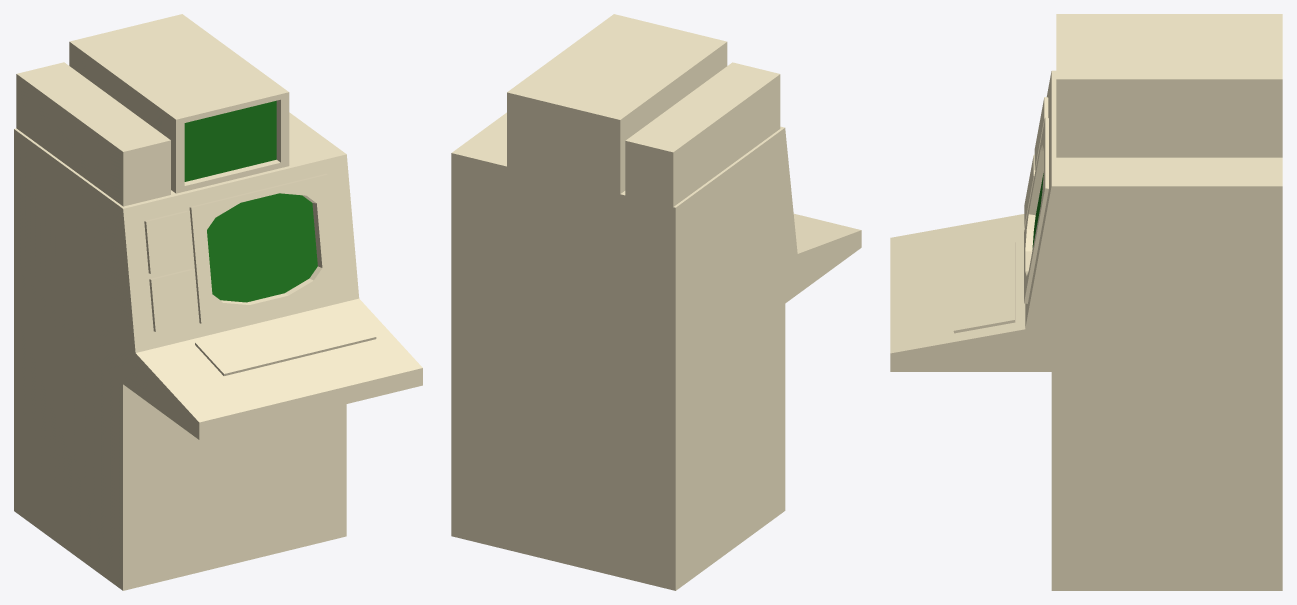
Rendered from uyq21.glb.
The picture shows the model from 3 angles, left to right: view 1: azimuth 30°, elevation 25°; view 2: azimuth 150°, elevation 25°; view 3: azimuth 270°, elevation 25°; orthographic projection. The views are drawn at different scales.
Parts seen in each view (by area): view 1: 立方体; view 2: 立方体; view 3: 立方体.
Part boxes in pixels (bbox=[...]): 立方体: bbox=[14, 14, 422, 590]; 立方体: bbox=[451, 14, 861, 590]; 立方体: bbox=[890, 14, 1282, 590].
Bounding box in the file's own units: 0.7366 × 1.44 × 1.06.
